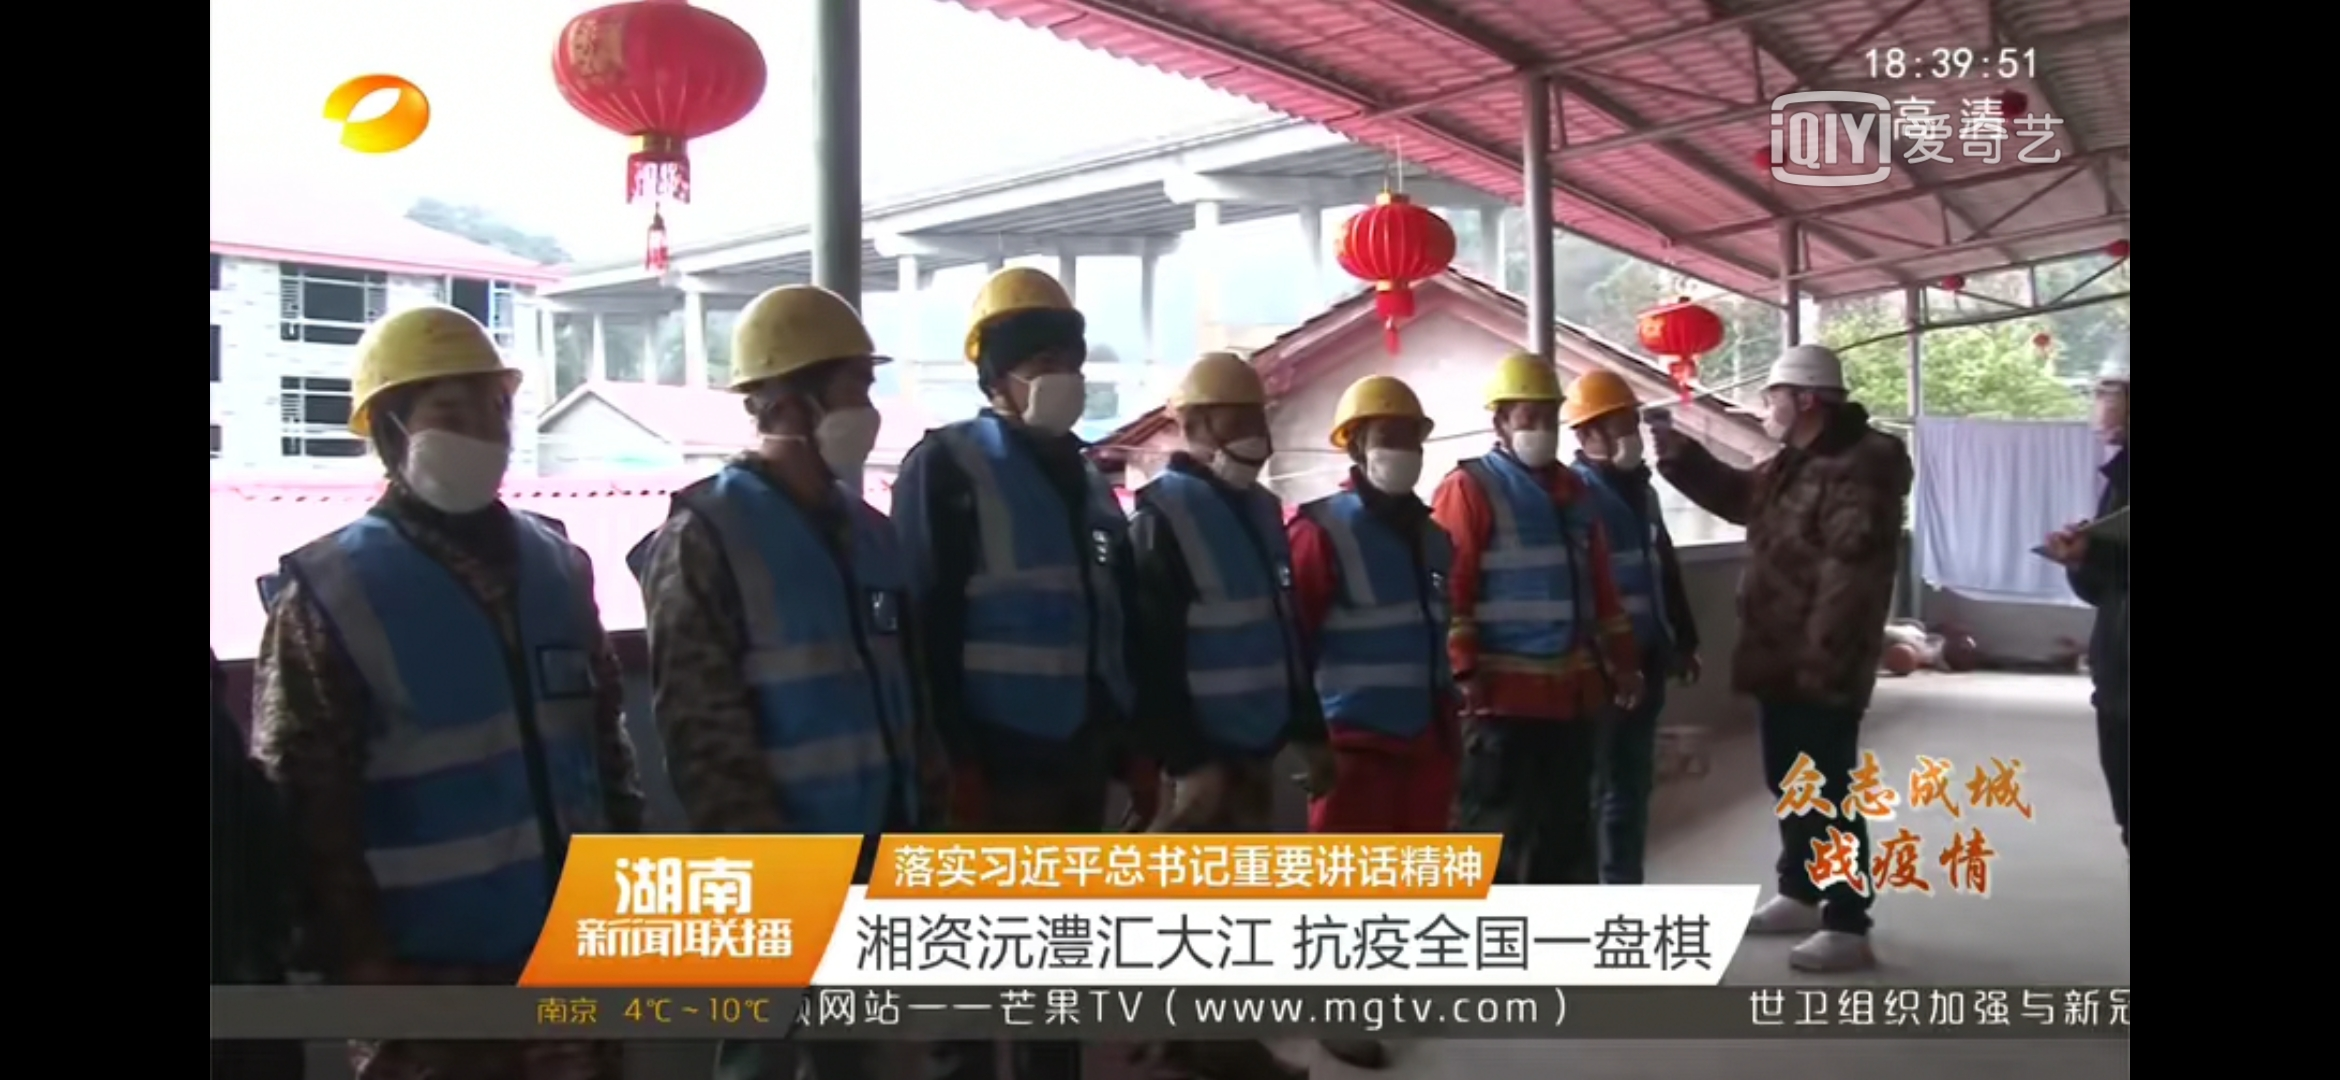correctlyWear: (376, 397, 513, 522), (778, 368, 883, 489), (1004, 348, 1089, 443), (1346, 427, 1428, 503), (1186, 413, 1268, 488), (1494, 406, 1565, 471), (1756, 388, 1822, 449), (1589, 419, 1648, 474), (2085, 370, 2127, 443)
